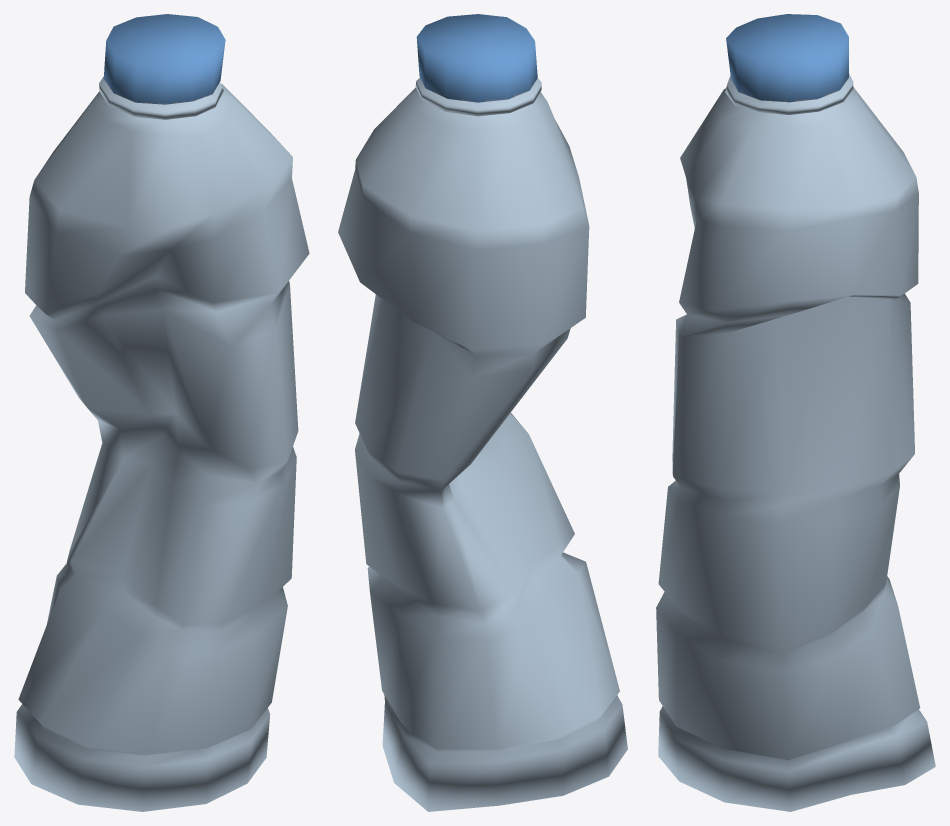
File: PlasticBottle.fbx
3 views of the same model, side by side, from view 1: azimuth 30°, elevation 25°; view 2: azimuth 150°, elevation 25°; view 3: azimuth 270°, elevation 25° (orthographic). The views are drawn at different scales.
Visible parts, largest first — view 1: Bottle1_LP; view 2: Bottle1_LP; view 3: Bottle1_LP.
Boxes of the visible parts, box(x1,y1,x2,y2) form: Bottle1_LP: box(14, 14, 309, 811); Bottle1_LP: box(338, 14, 627, 811); Bottle1_LP: box(656, 14, 935, 811).
Size of the model in its own units: 74.96 by 203 by 69.42.
